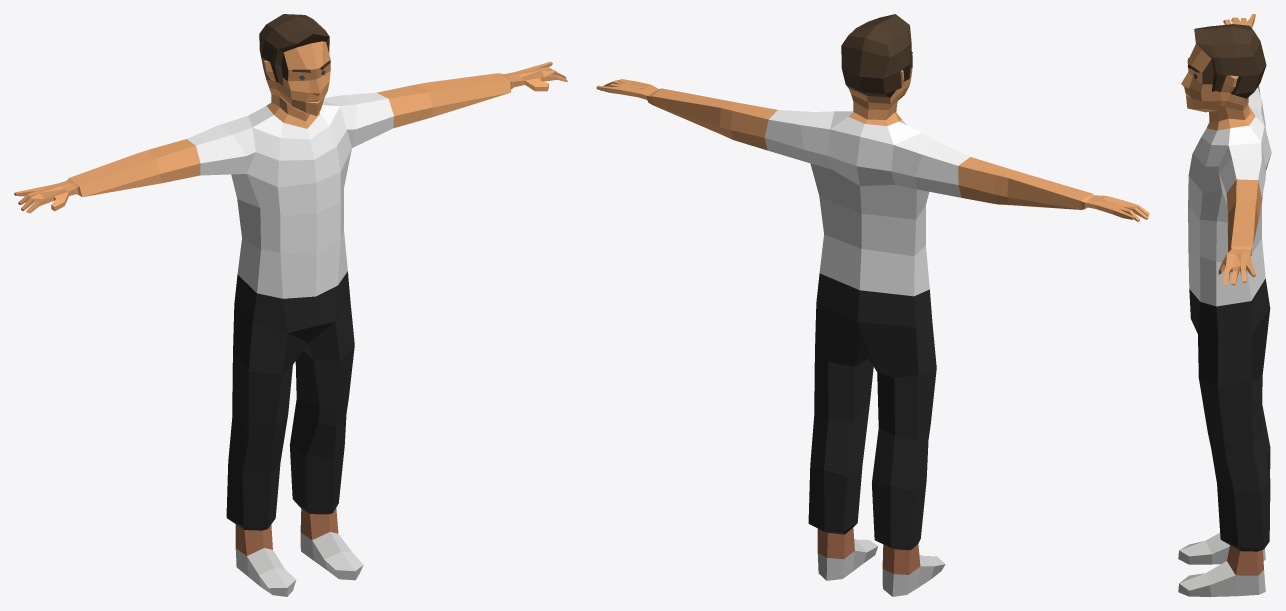
File: DÜZELTMEKARAKTER.fbx
3 renders of one model, left to right at view 1: azimuth 30°, elevation 25°; view 2: azimuth 150°, elevation 25°; view 3: azimuth 270°, elevation 25°, orthographic.
Parts seen in each view (by area): view 1: KaraKenan; view 2: KaraKenan; view 3: KaraKenan.
Boxes of the visible parts, <box> form: KaraKenan: <box>14,14,567,596</box>; KaraKenan: <box>596,14,1149,596</box>; KaraKenan: <box>1178,14,1271,596</box>.
Size of the model in its own units: 274 by 266 by 41.03.
